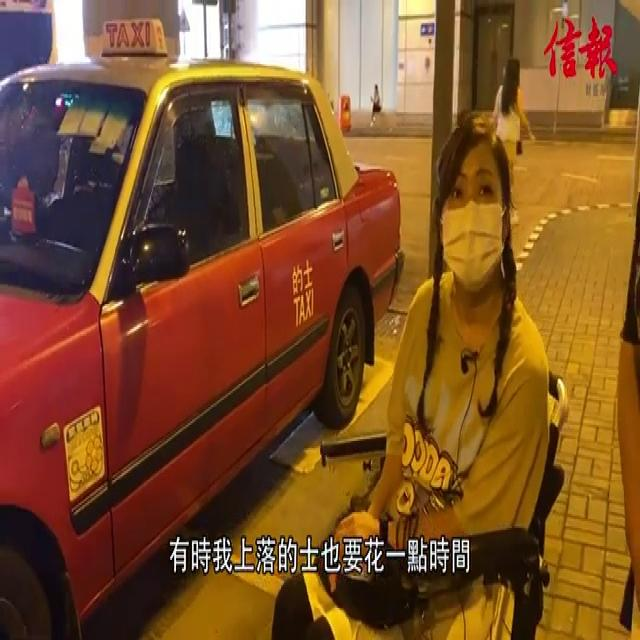wheelchairs: (310, 359, 577, 624)
